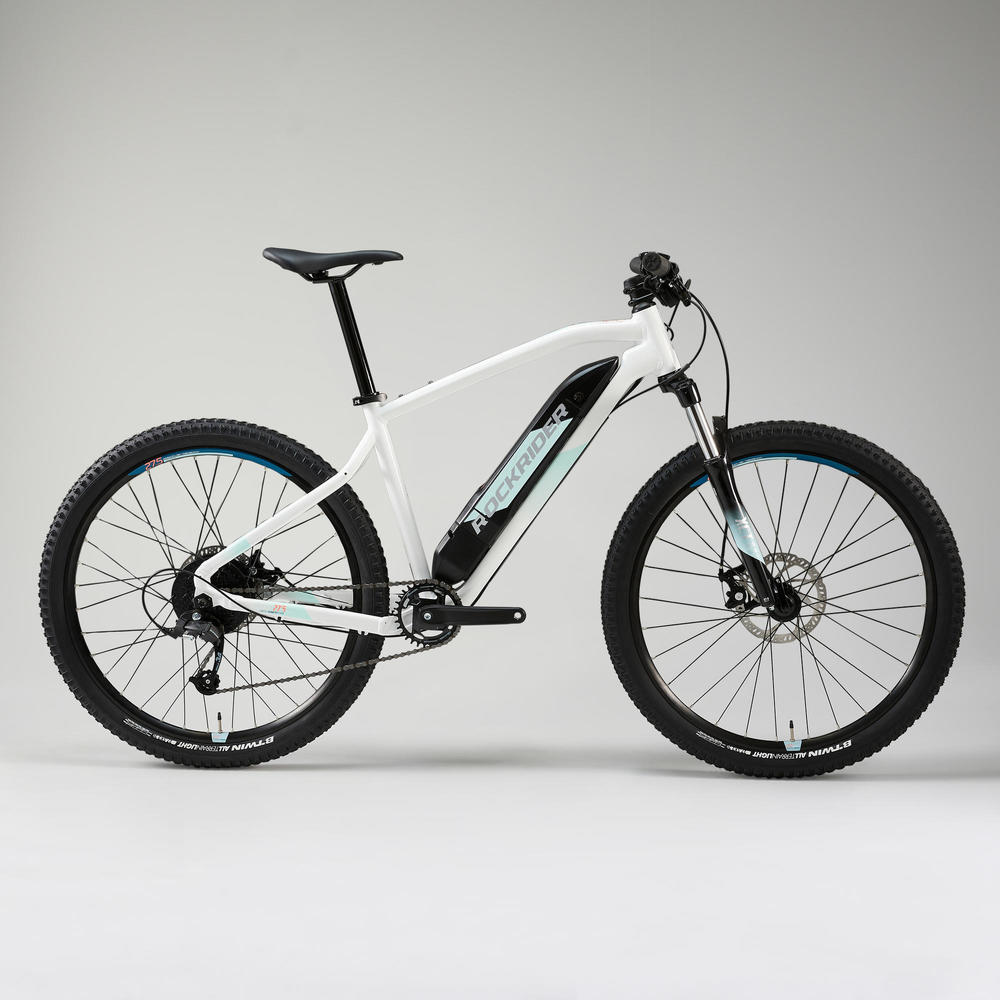MountainBike: (39, 226, 968, 793)
